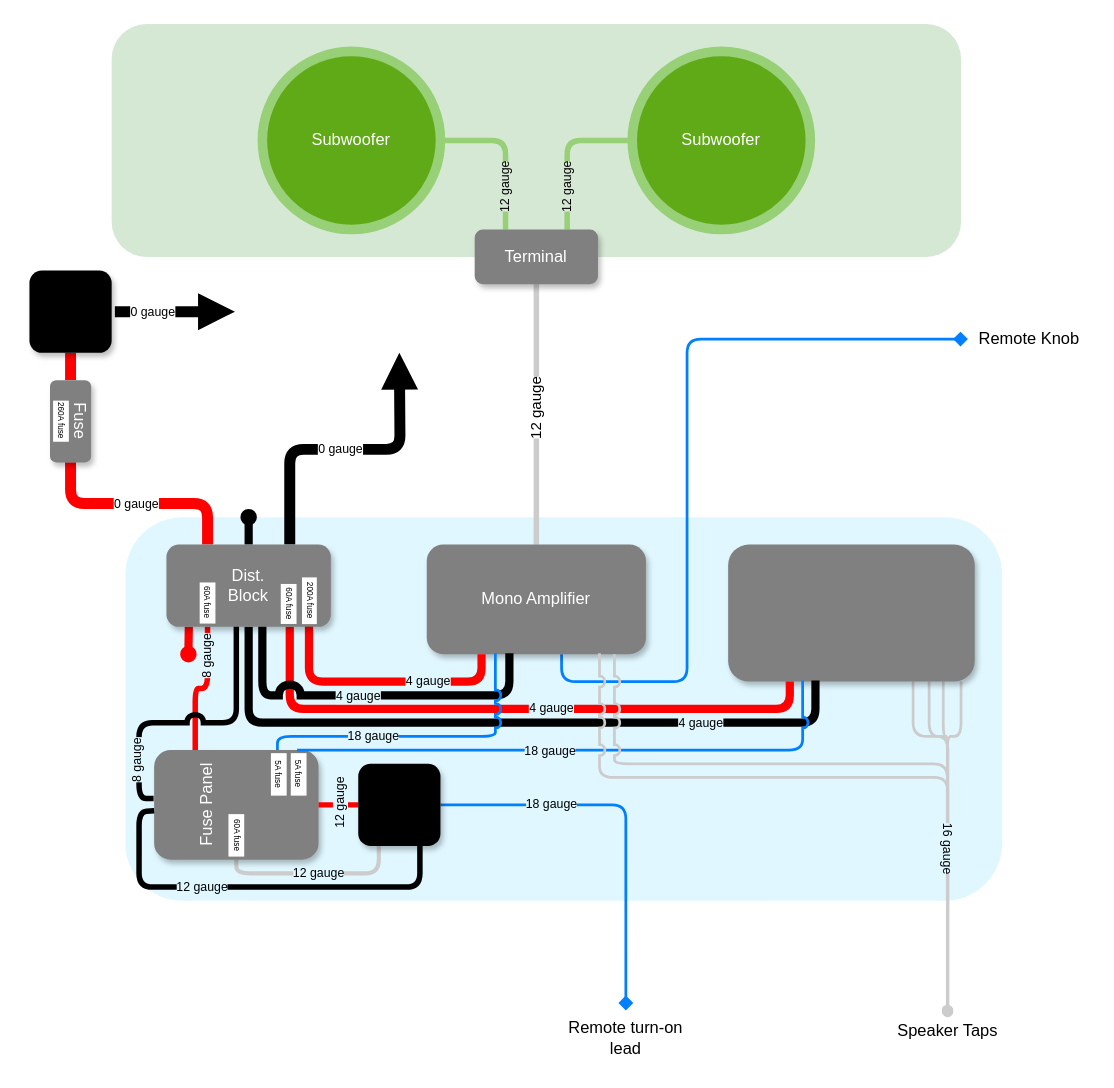
This 1114x1088 diagram has some shape labels left out. Here are the shapes that lost their labels. From the top down, the centre of each, then its label:
(71,313): Battery
(852,614): Stereo Amplifier (future)
(400,806): Relay
